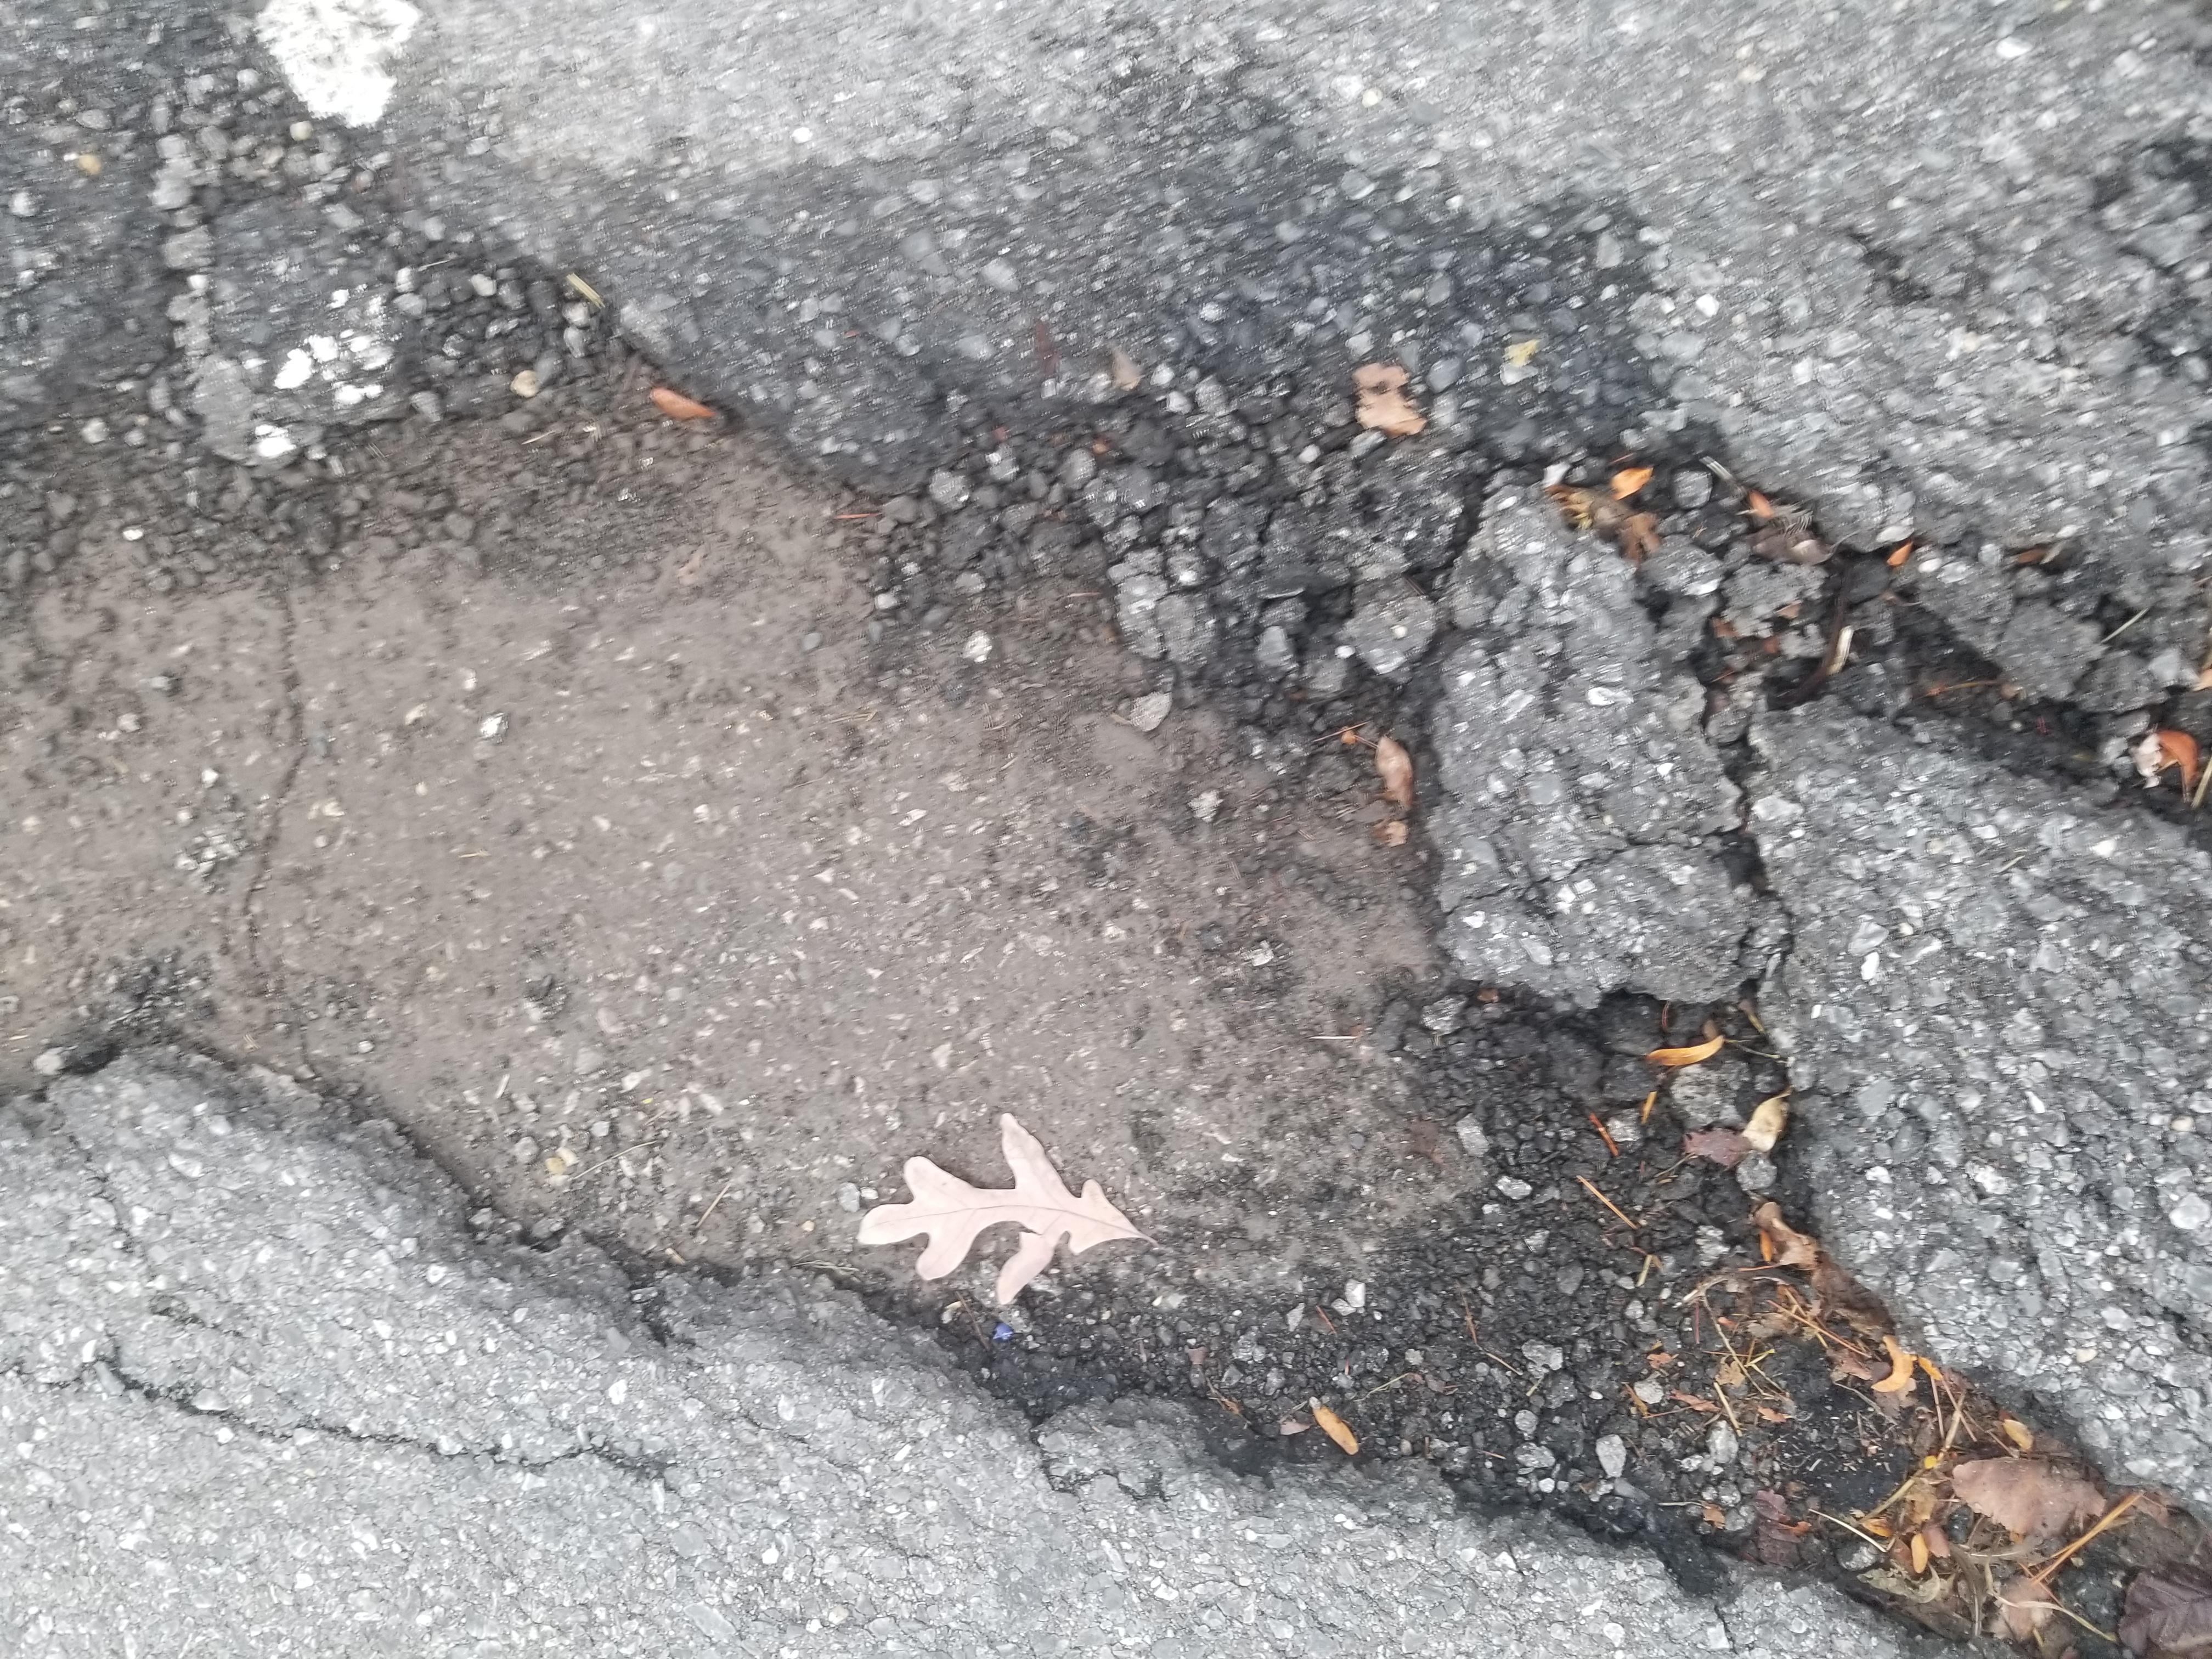pothole: (343, 21, 1763, 1466)
